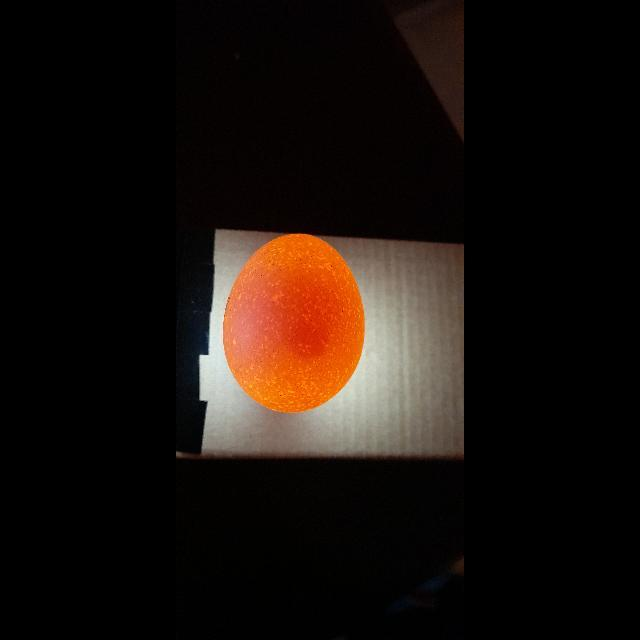Fertile: (223, 230, 371, 414)
